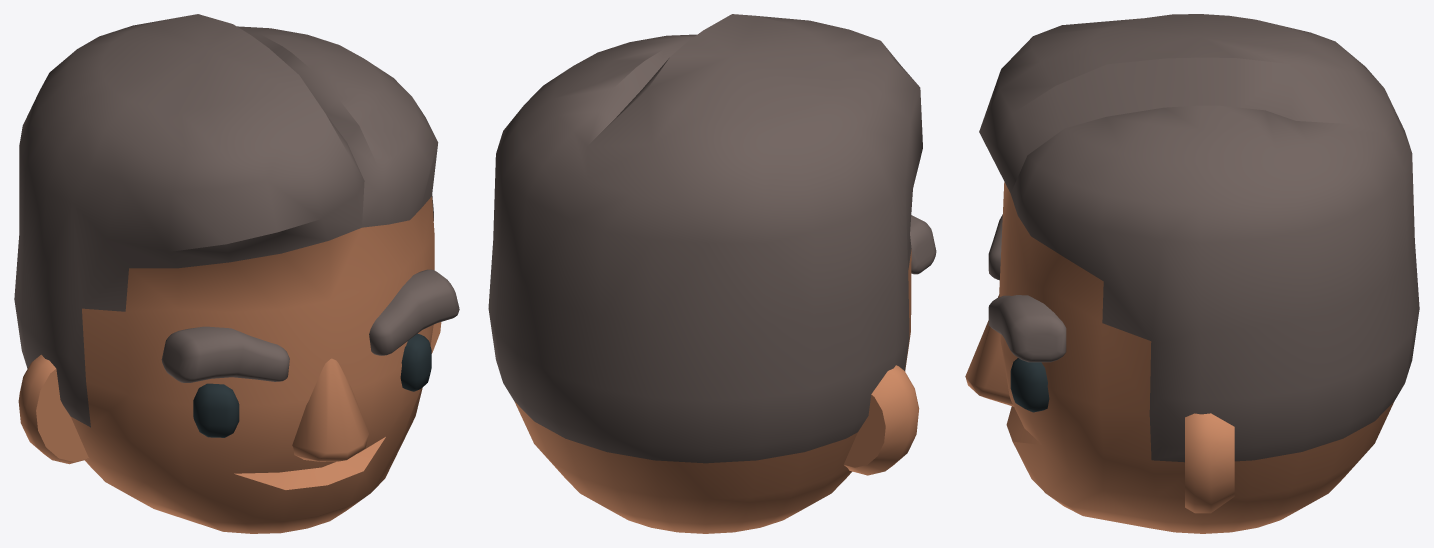
Rendered from kaykit-knightheadb.glb.
The picture shows the model from 3 angles, left to right: view 1: azimuth 30°, elevation 25°; view 2: azimuth 150°, elevation 25°; view 3: azimuth 270°, elevation 25°; orthographic projection.
Visible parts, largest first — view 1: knightHeadB; view 2: knightHeadB; view 3: knightHeadB.
Boxes of the visible parts, box(x1,y1,x2,y2) form: knightHeadB: box(14, 14, 459, 533); knightHeadB: box(488, 14, 936, 533); knightHeadB: box(965, 14, 1419, 533).
Size of the model in its own units: 1.18 by 1.19 by 1.11.
